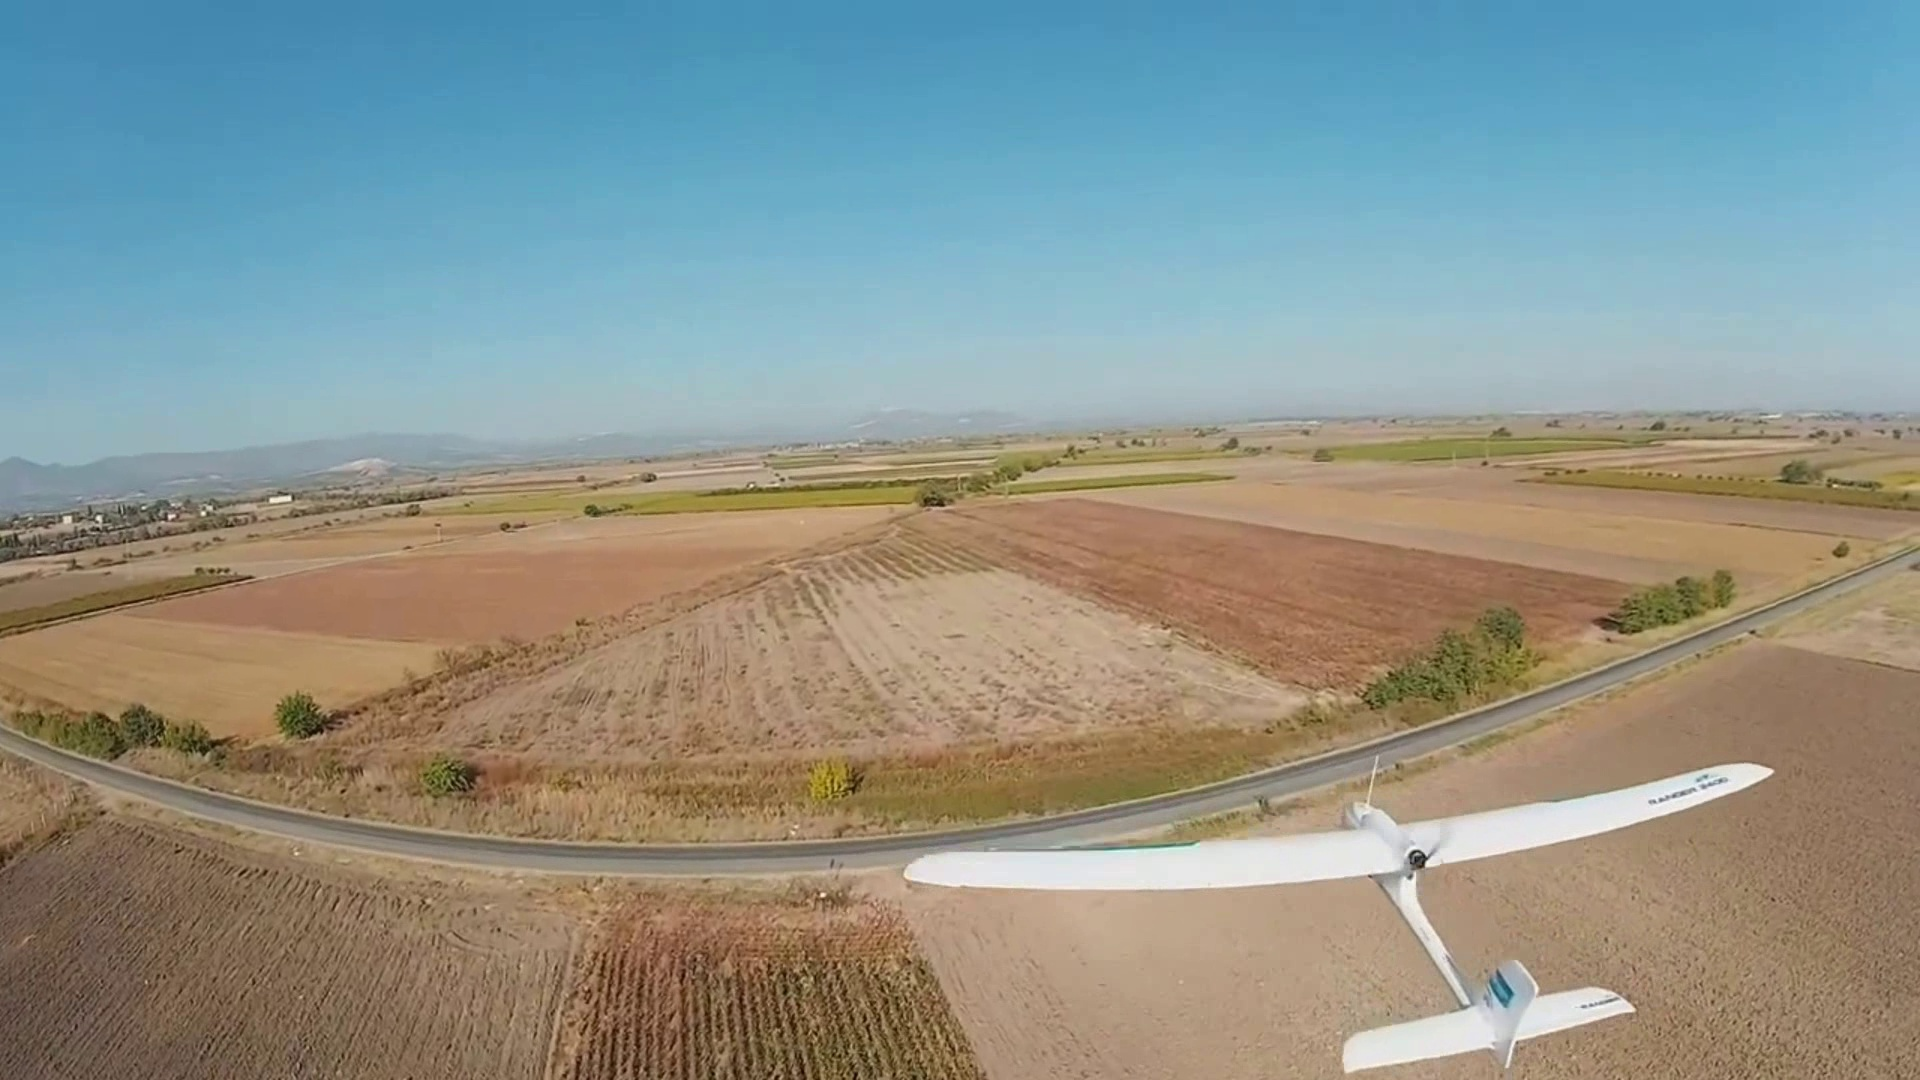airplane: (0, 634, 1822, 1069)
